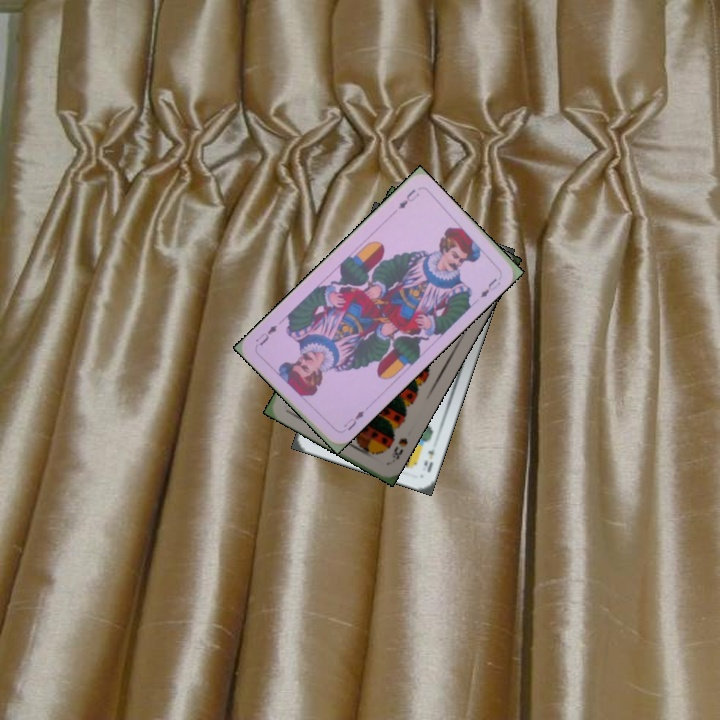EK: (419, 438, 440, 474)
EU: (339, 406, 367, 433), (394, 185, 422, 212)
S8: (383, 434, 410, 466)
